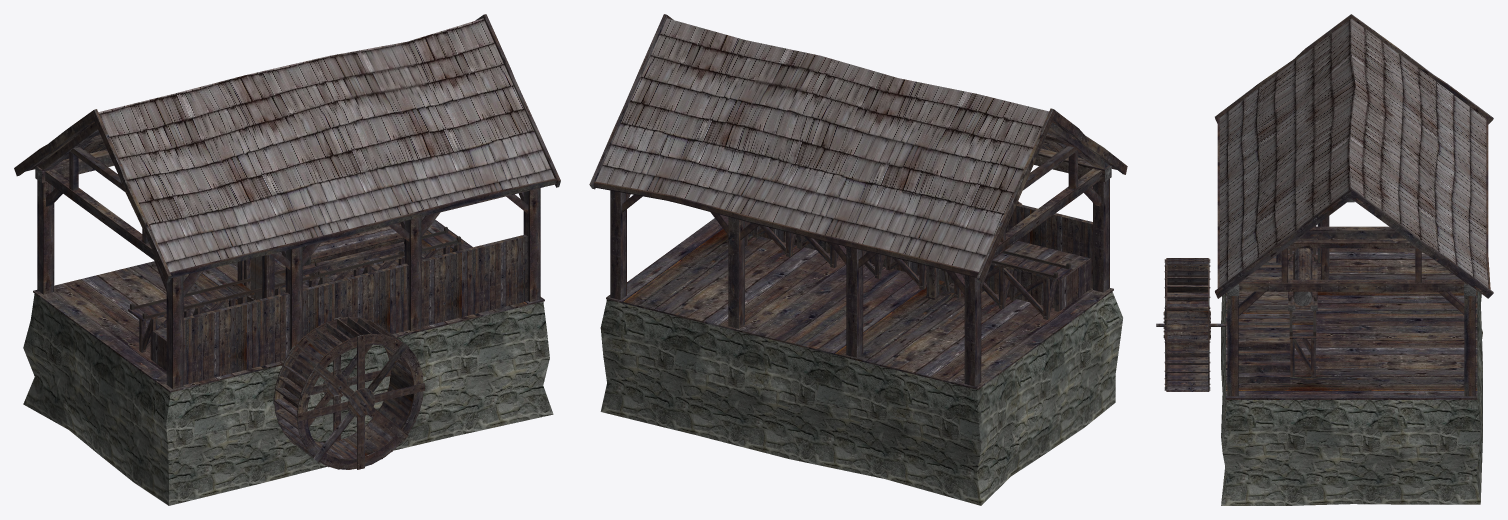
File: sawmill.glb
The picture shows the model from 3 angles, left to right: view 1: azimuth 30°, elevation 25°; view 2: azimuth 150°, elevation 25°; view 3: azimuth 270°, elevation 25°; orthographic projection. The views are drawn at different scales.
Visible parts, largest first — view 1: sawmill; view 2: sawmill; view 3: sawmill.
Part boxes in pixels (x1,y1,x2,y2): sawmill: (14, 14, 560, 505); sawmill: (589, 14, 1127, 505); sawmill: (1156, 14, 1493, 505).
Size of the model in its own units: 11.05 by 9.29 by 8.92.
5 materials, 5 textured.
